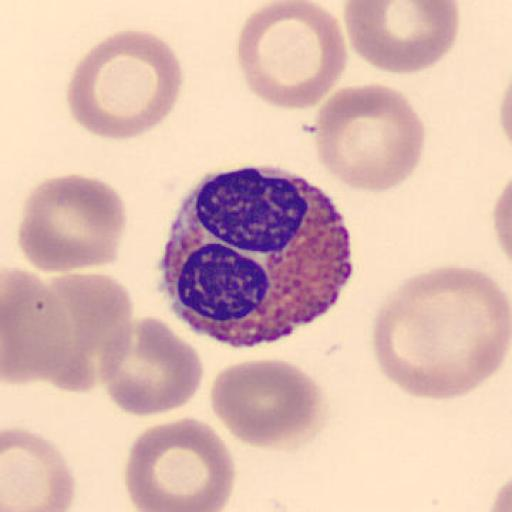RBC: (372, 264, 508, 400), (16, 269, 134, 395), (66, 28, 184, 142), (313, 81, 427, 194), (236, 0, 350, 110), (16, 172, 129, 274), (208, 357, 330, 451), (124, 413, 236, 512), (100, 314, 204, 418), (343, 0, 461, 76), (2, 266, 73, 387), (1, 426, 77, 512), (490, 175, 512, 265), (493, 185, 512, 261), (499, 80, 512, 151), (488, 475, 512, 511)
WBC: (159, 161, 356, 348)
